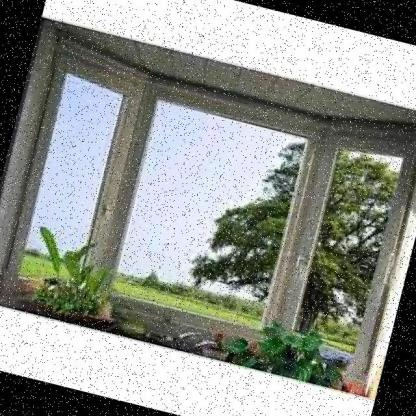Window: (0, 31, 416, 370)
